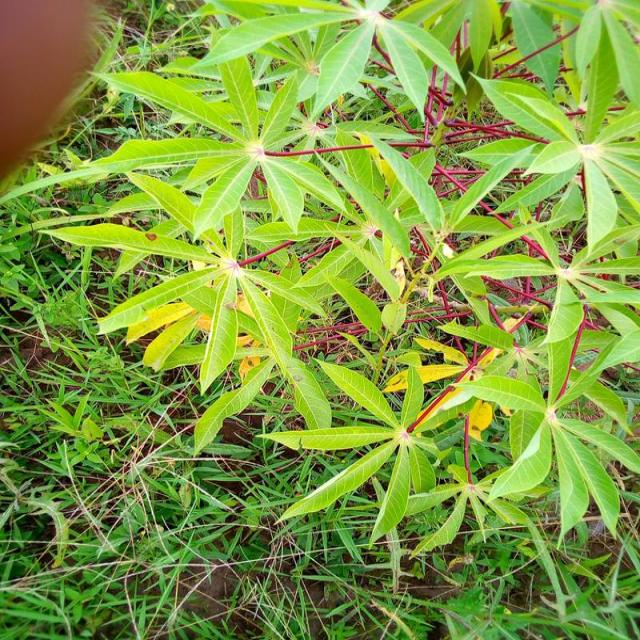cassava leaf: (13, 0, 638, 558)
